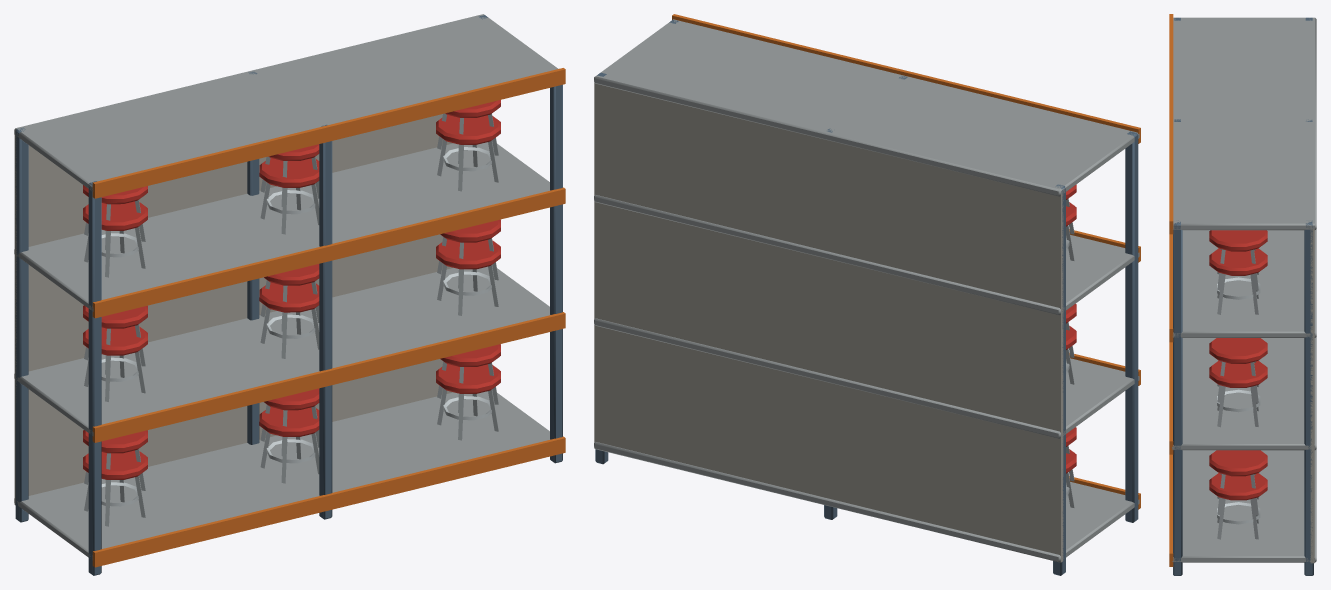
File: 200_rayon_sieges.fbx
3 renders of one model, left to right at view 1: azimuth 30°, elevation 25°; view 2: azimuth 150°, elevation 25°; view 3: azimuth 270°, elevation 25°, orthographic. The views are drawn at different scales.
Parts seen in each view (by area): view 1: Rayon, Articles; view 2: Rayon, Articles; view 3: Rayon, Articles.
Boxes of the visible parts, <box> form: Rayon: <box>14,14,565,575</box>; Articles: <box>83,100,500,526</box>; Rayon: <box>594,14,1140,575</box>; Articles: <box>1066,184,1076,507</box>; Rayon: <box>1169,14,1316,575</box>; Articles: <box>1209,230,1267,539</box>.
Size of the model in its own units: 2.8 by 2.24 by 0.84.
1 material, 1 textured.
